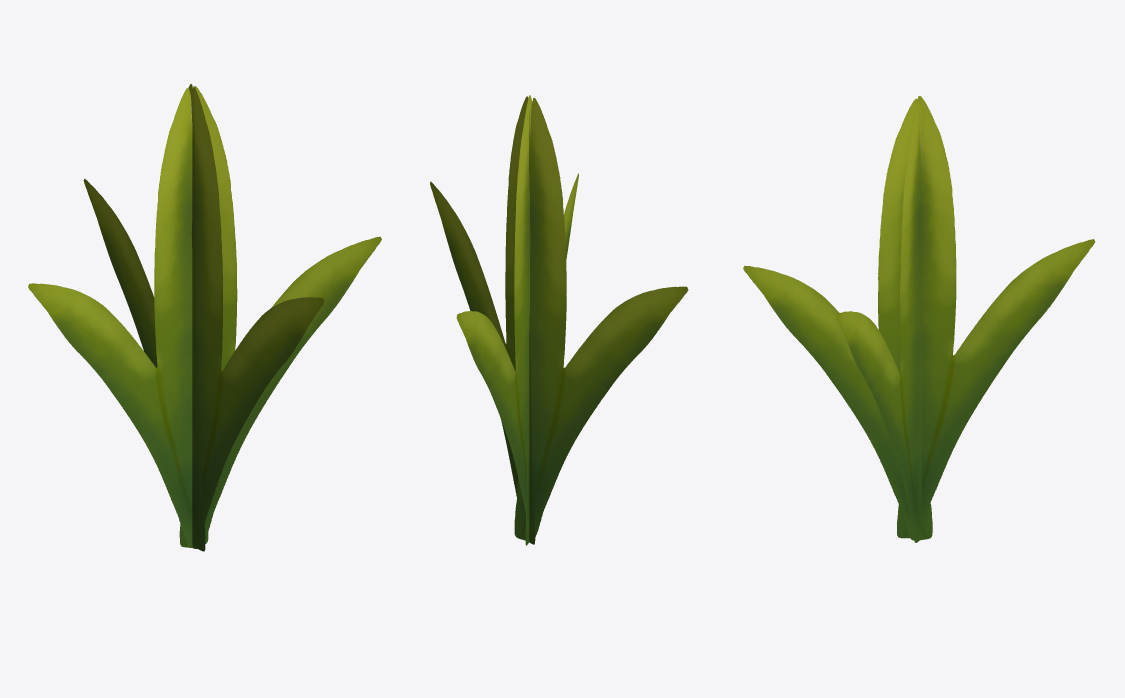
Rendered from AlgaSub_04.fbx.
3 renders of one model, left to right at view 1: azimuth 30°, elevation 25°; view 2: azimuth 150°, elevation 25°; view 3: azimuth 270°, elevation 25°, orthographic. The views are drawn at different scales.
Visible parts, largest first — view 1: pPlane17; view 2: pPlane17; view 3: pPlane17.
Boxes of the visible parts, <box> form: pPlane17: <box>28,84,381,551</box>; pPlane17: <box>430,95,688,545</box>; pPlane17: <box>743,96,1095,542</box>.
Bounding box in the file's own units: 172 × 275 × 177.
